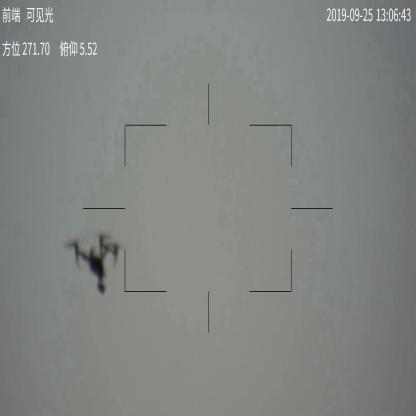uav: (64, 232, 119, 293)
